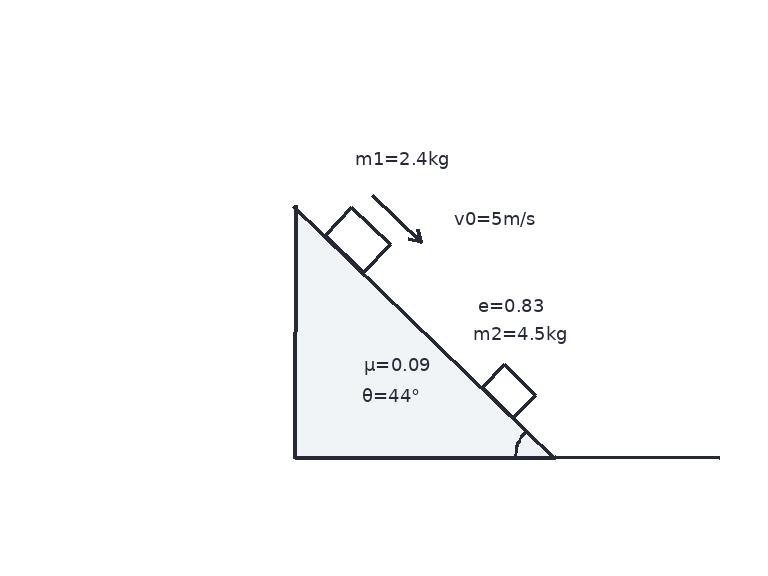block: (322, 205, 392, 274), (479, 362, 538, 420)
ramp: (293, 205, 557, 460)
